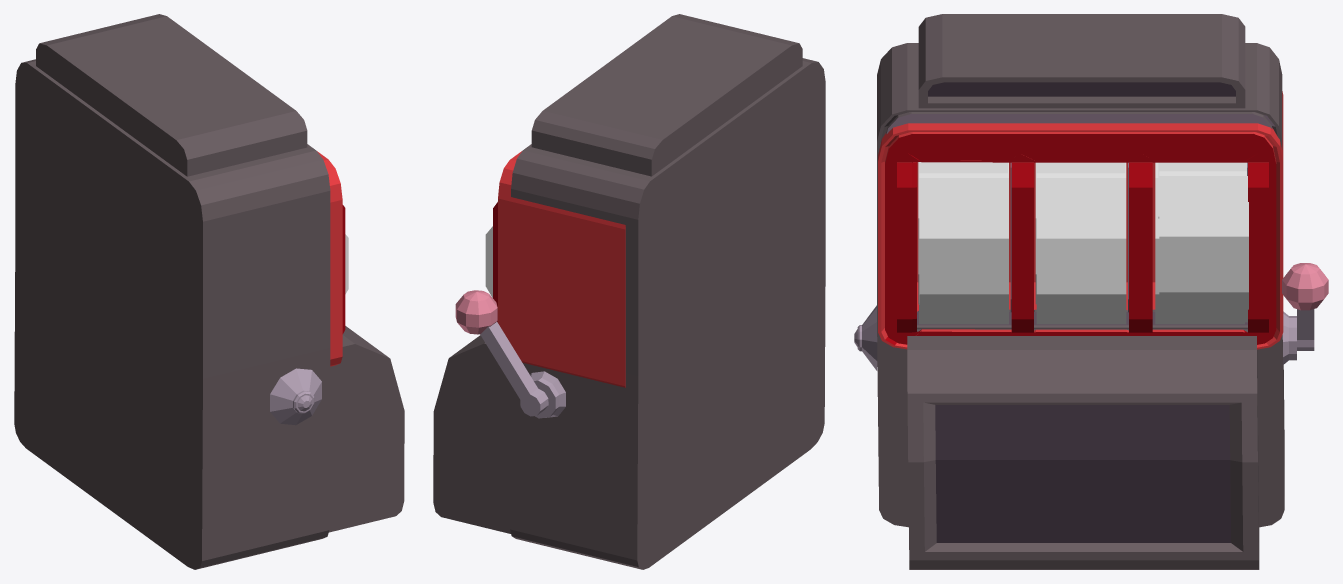
Rendered from TragaMonedas.glb.
The picture shows the model from 3 angles, left to right: view 1: azimuth 30°, elevation 25°; view 2: azimuth 150°, elevation 25°; view 3: azimuth 270°, elevation 25°; orthographic projection. The views are drawn at different scales.
Visible parts, largest first — view 1: TragaMonedas, SocotrocoRojo, PalancaTornillo; view 2: TragaMonedas, SocotrocoRojo, Palanca, PalancaBola, SocoRojoRuedaDer; view 3: TragaMonedas, SocotrocoRojo, SocoRojoRuedaMid, SocoRojoRuedaIzq, SocoRojoRuedaDer, PalancaBola, Palanca, TragaRuedaMid, TragaRuedaIzq, SocoAzulRuedaDer, TragaRuedaDer, PalancaTornillo.
Part boxes in pixels (<box>): TragaMonedas: <box>14,14,404,569</box>; SocotrocoRojo: <box>317,151,345,366</box>; PalancaTornillo: <box>270,368,321,425</box>; TragaMonedas: <box>433,14,825,569</box>; SocotrocoRojo: <box>493,151,625,387</box>; Palanca: <box>480,322,565,418</box>; PalancaBola: <box>455,290,497,334</box>; SocoRojoRuedaDer: <box>485,226,492,297</box>; TragaMonedas: <box>877,14,1284,569</box>; SocotrocoRojo: <box>878,91,1283,349</box>; SocoRojoRuedaMid: <box>1036,162,1126,324</box>; SocoRojoRuedaIzq: <box>919,162,1008,324</box>; SocoRojoRuedaDer: <box>1159,171,1248,322</box>; PalancaBola: <box>1282,263,1328,310</box>; Palanca: <box>1282,309,1314,364</box>; TragaRuedaMid: <box>1035,162,1125,304</box>; TragaRuedaIzq: <box>918,162,1007,304</box>; SocoAzulRuedaDer: <box>1155,162,1244,324</box>; TragaRuedaDer: <box>1158,162,1246,218</box>; PalancaTornillo: <box>854,305,877,370</box>.
Bounding box in the file's own units: 1.08 × 1.98 × 1.9.
